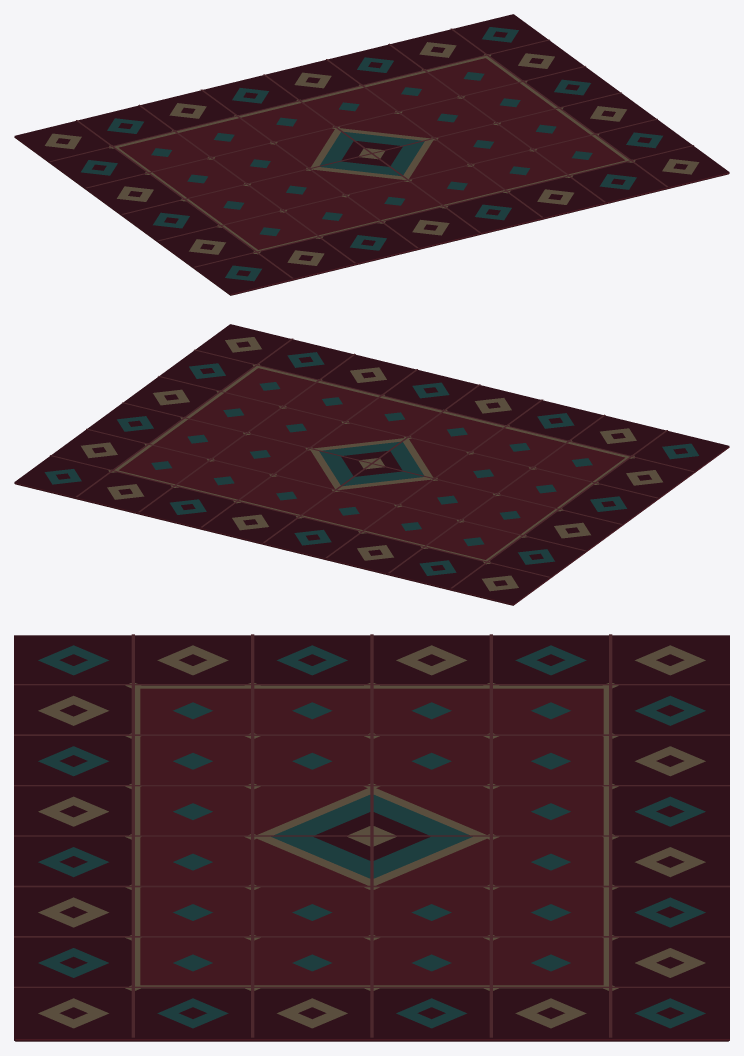
3 views of the same model, one above another, from view 1: azimuth 30°, elevation 25°; view 2: azimuth 150°, elevation 25°; view 3: azimuth 270°, elevation 25° (orthographic). The views are drawn at different scales.
Visible parts, largest first — view 1: furniture_18_rug_epic_persian; view 2: furniture_18_rug_epic_persian; view 3: furniture_18_rug_epic_persian.
Boxes of the visible parts, left/top/right/bottom form: furniture_18_rug_epic_persian: left=14, top=14, right=729, bottom=295; furniture_18_rug_epic_persian: left=14, top=324, right=729, bottom=605; furniture_18_rug_epic_persian: left=14, top=634, right=729, bottom=1041.
Size of the model in its own units: 8 by 0.042 by 6.
